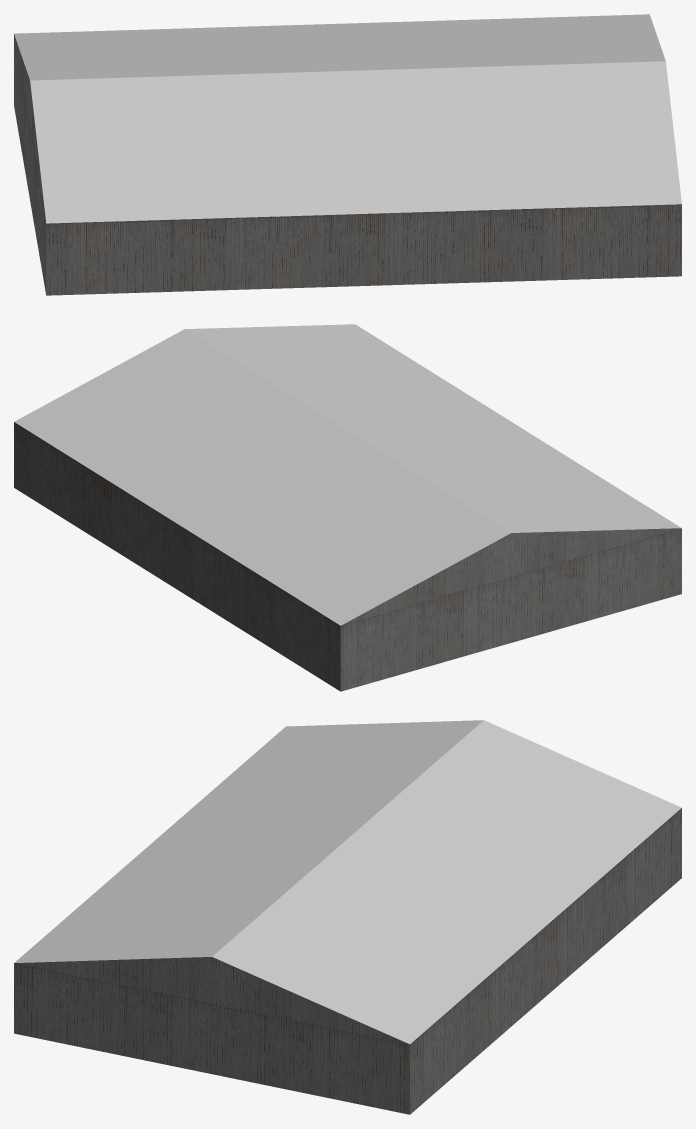
The model's file is hangarMaarch3.gltf.
The picture shows the model from 3 angles, top to bottom: view 1: azimuth 30°, elevation 25°; view 2: azimuth 150°, elevation 25°; view 3: azimuth 270°, elevation 25°; orthographic projection. The views are drawn at different scales.
Visible parts, largest first — view 1: node3, node1; view 2: node3, node1; view 3: node3, node1.
Boxes of the visible parts, bbox=[...] form: node3: bbox=[14, 14, 681, 223]; node1: bbox=[14, 34, 681, 295]; node3: bbox=[14, 324, 681, 625]; node1: bbox=[14, 422, 681, 691]; node3: bbox=[14, 720, 681, 1044]; node1: bbox=[14, 808, 681, 1114].
Size of the model in its own units: 29.05 by 5 by 25.79.
